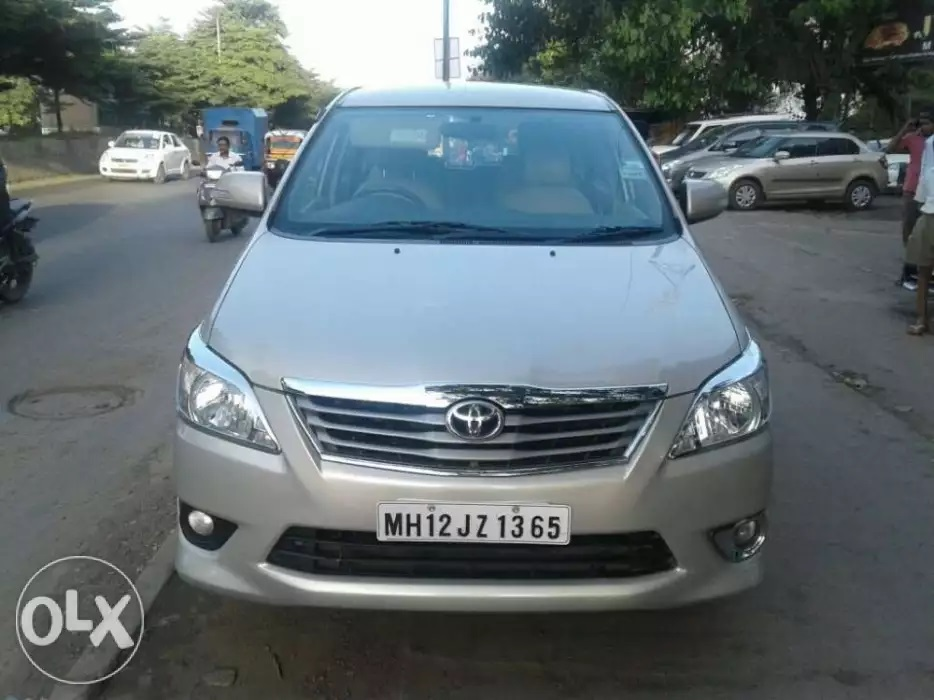licenseplate: (374, 499, 574, 549)
